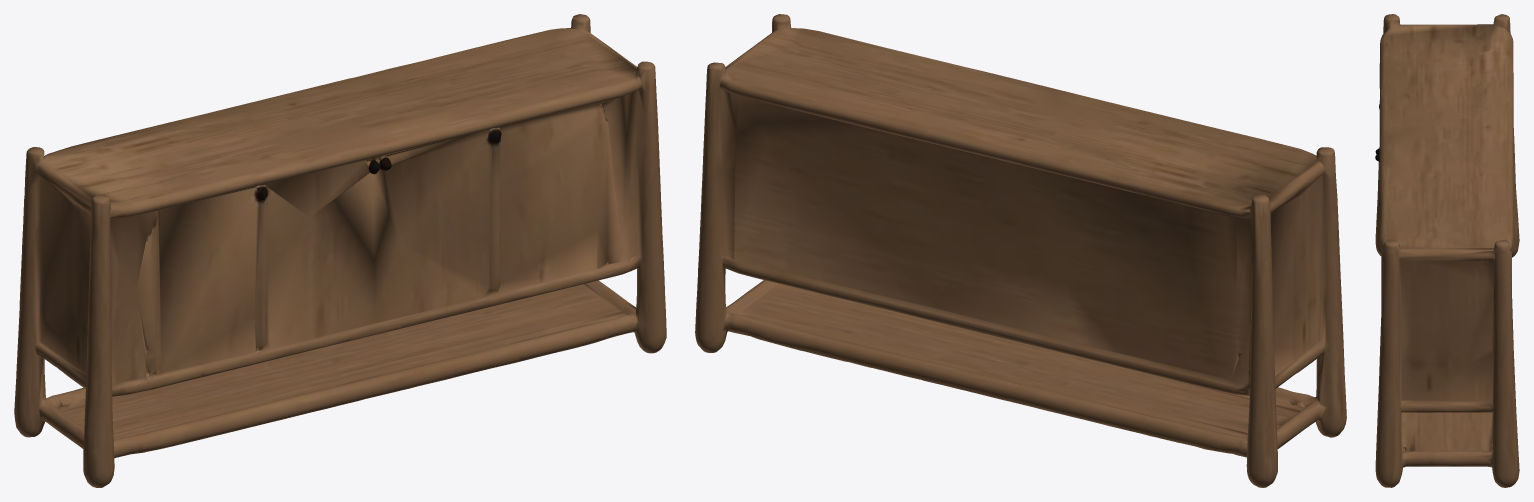
File: furnimesh-sideboard.glb
3 views of the same model, side by side, from view 1: azimuth 30°, elevation 25°; view 2: azimuth 150°, elevation 25°; view 3: azimuth 270°, elevation 25° (orthographic). The views are drawn at different scales.
Visible parts, largest first — view 1: sideboard-normalized; view 2: sideboard-normalized; view 3: sideboard-normalized.
Part boxes in pixels (box(x1,y1,x2,y2)): sideboard-normalized: box(14, 14, 666, 487); sideboard-normalized: box(695, 14, 1346, 487); sideboard-normalized: box(1375, 14, 1519, 487).
Size of the model in its own units: 1.65 by 0.78 by 0.4199.
1 material, 1 textured.
